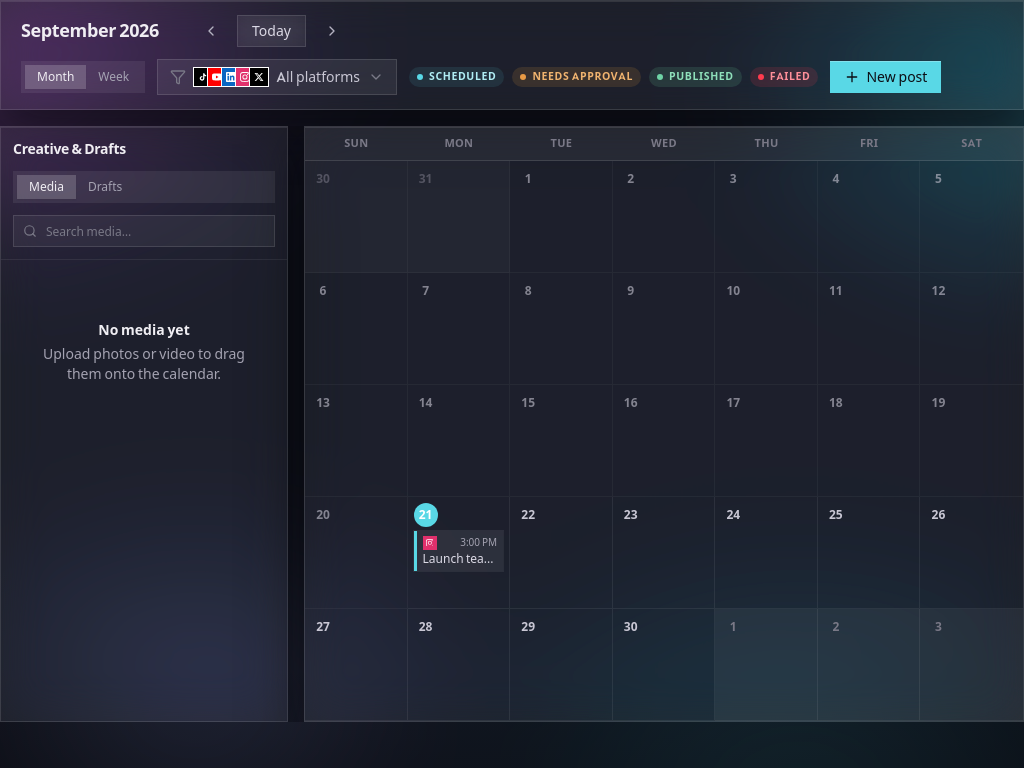
Test: CalendarPage › renders a post chip on the correct day and hides it when its platform is filtered out
Click the button with test id "platform-filter": x=277, y=77 [157, 59, 397, 95]
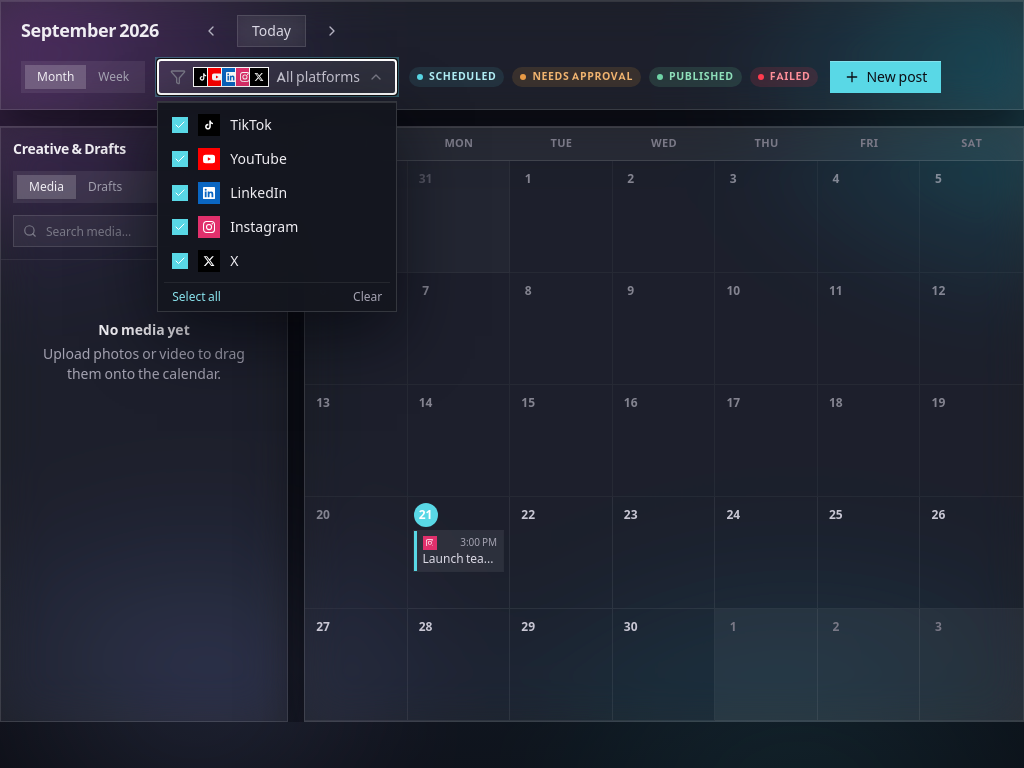
Click the option with aria-label "Toggle instagram filter": x=277, y=227 [164, 210, 390, 244]
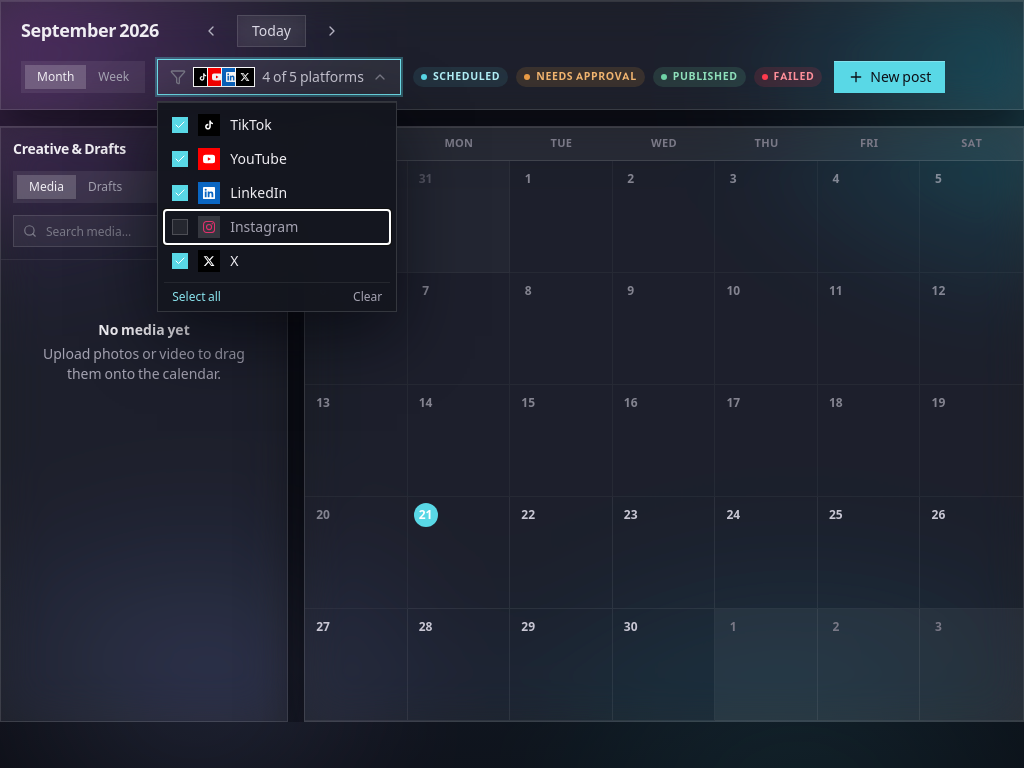
Now the button with test id "platform-filter" reads "4 of 5 platforms", box [157, 59, 401, 95]
Now the button "Launch teaser" is gone
